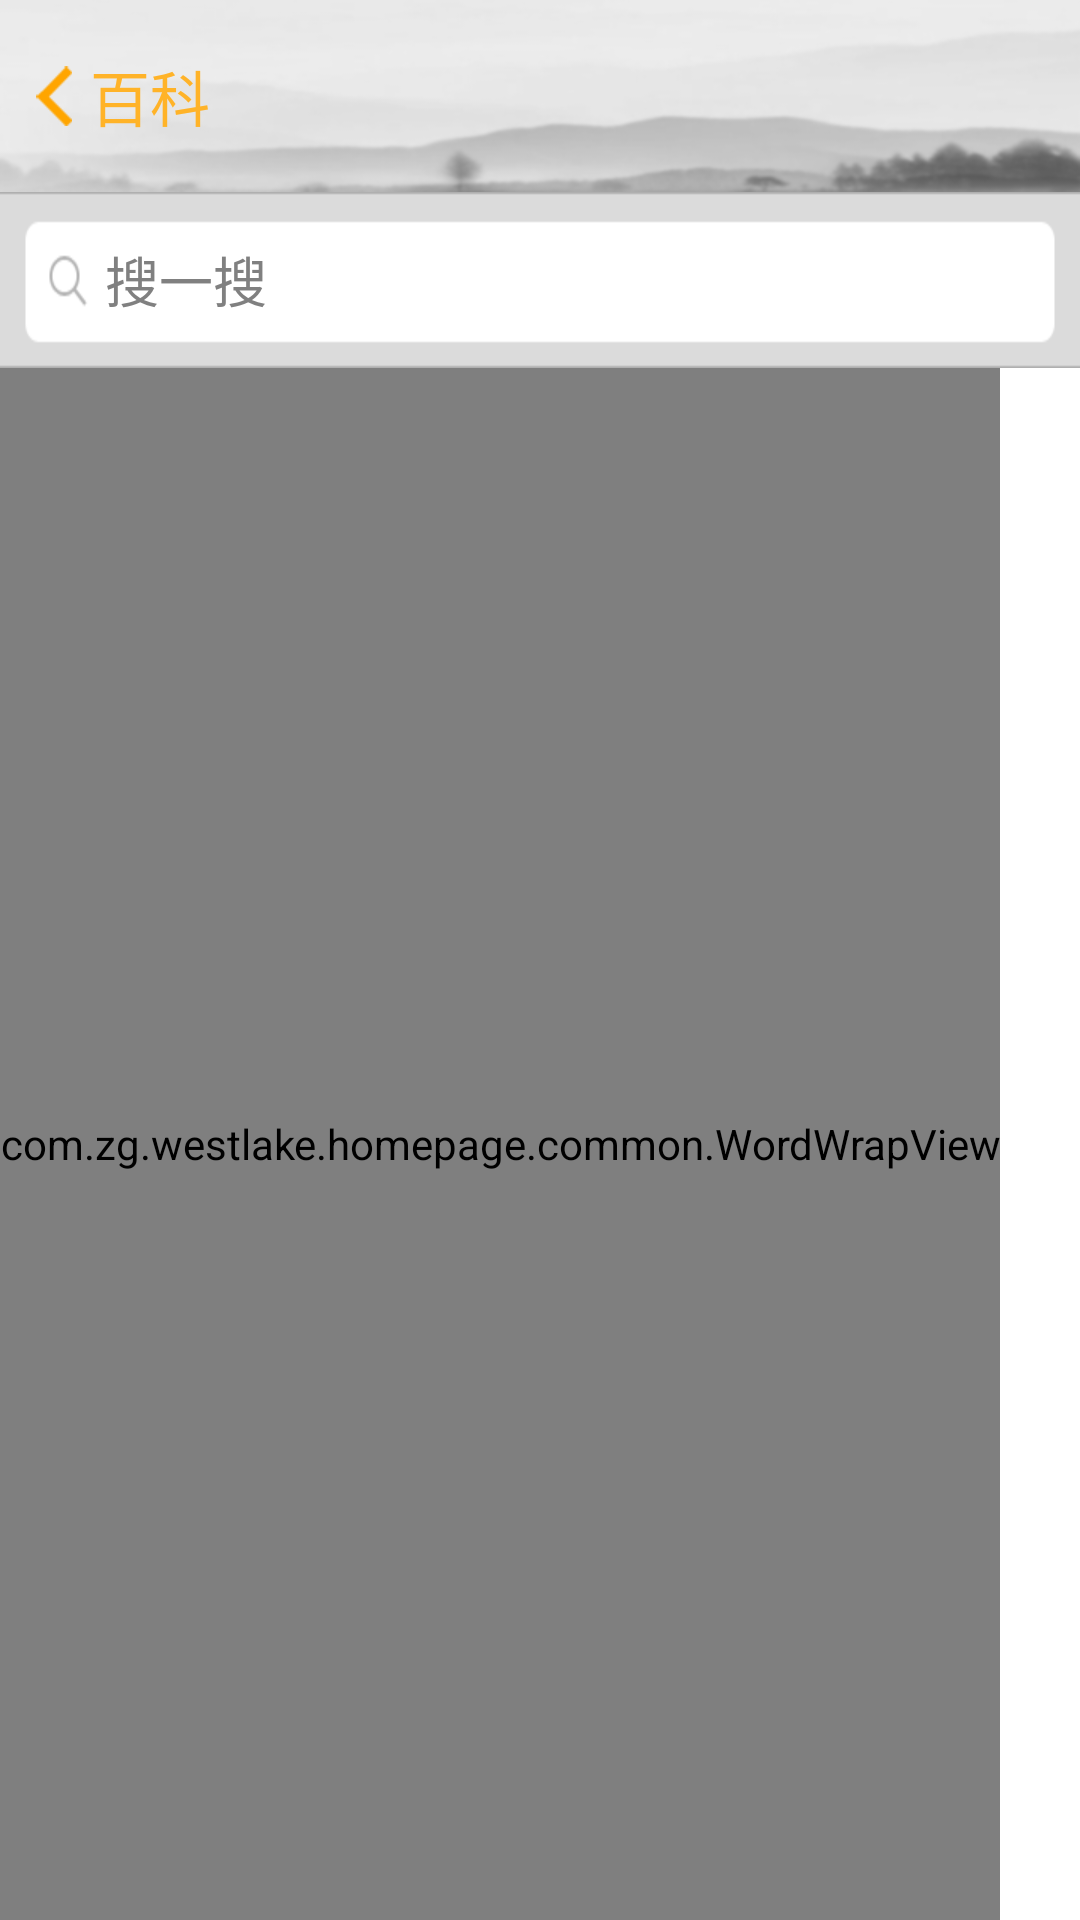

Icon bounding boxes for this 1080px×1920px phone screenshot, format (x1, y1, x2, y2):
back: (36, 66, 72, 126)
